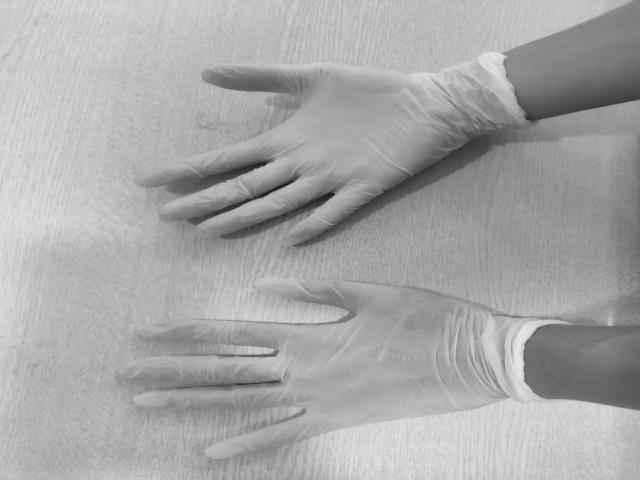gloved: (124, 274, 492, 462), (146, 60, 457, 246)
